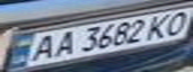2: (127, 16, 151, 44)
3: (75, 25, 100, 53)
6: (97, 22, 118, 50)
8: (112, 19, 136, 47)
A: (21, 33, 63, 64), (48, 28, 81, 58)
K: (142, 12, 178, 39)
O: (157, 8, 193, 36)
